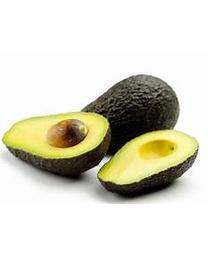avocado: (75, 73, 180, 156), (97, 128, 199, 198), (2, 111, 110, 177)
